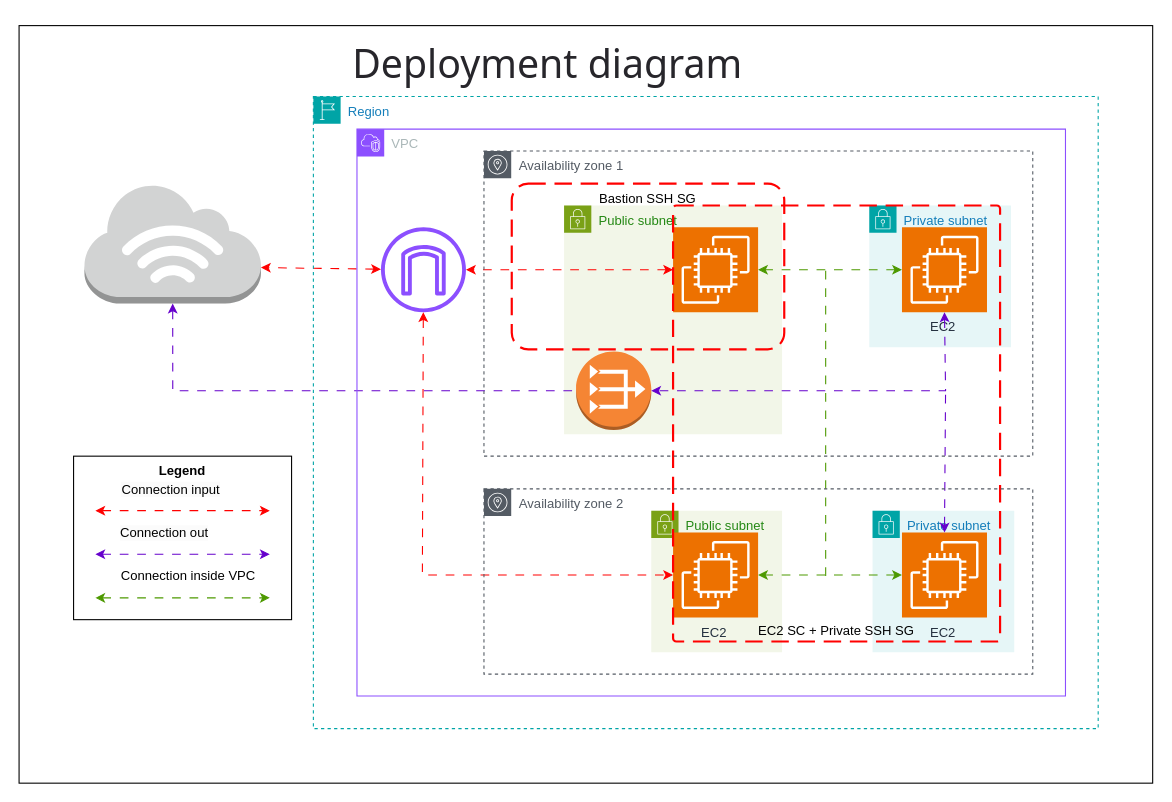
The diagram is 1172 pixels wide and 802 high, and some of its shapes have lost their labels. The shapes that lost their labels are listed below. From the top down, each one's centre as x and y in pixels, then its label:
At (715,269): "EC2 Bastion host".
At (613,390): "NAT Gateway".
